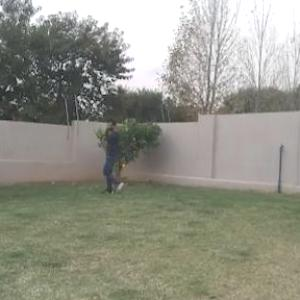follow: (100, 115, 122, 203)
